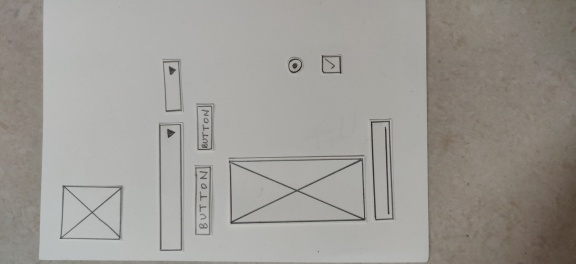button: (192, 162, 214, 238), (193, 101, 217, 154)
checkbox: (319, 53, 344, 77)
dropdown: (155, 120, 189, 255), (160, 57, 186, 115)
img: (223, 152, 367, 227), (57, 181, 127, 244)
radio: (286, 56, 306, 75)
text: (367, 117, 398, 223)
